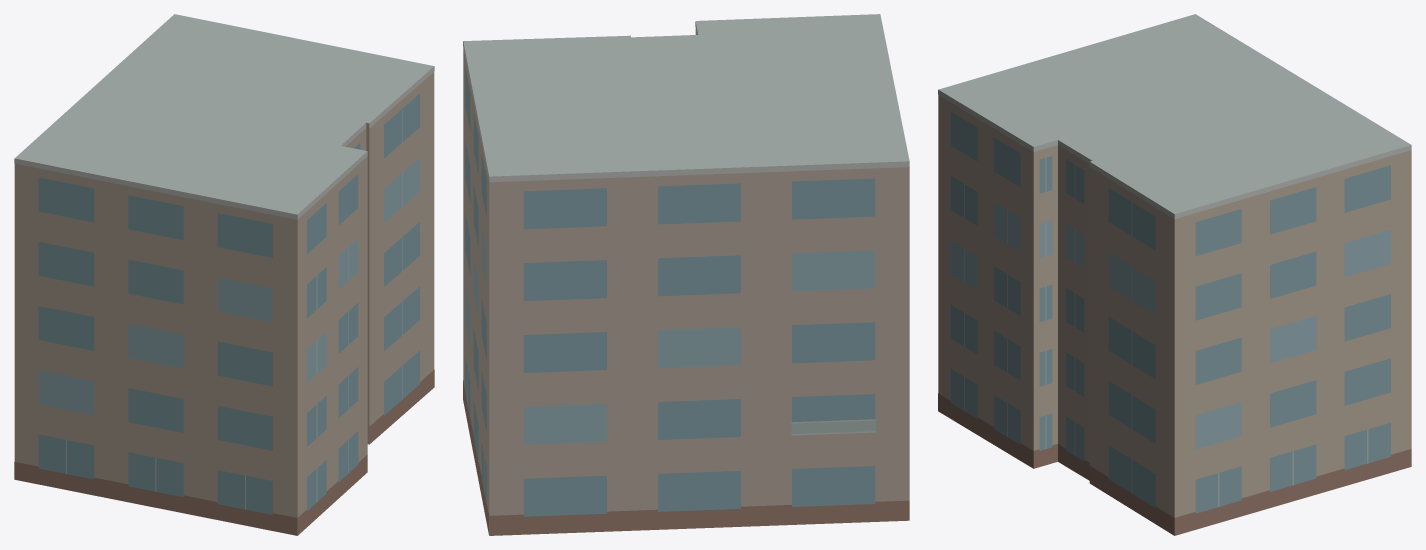
The model's file is survey-upis-32600443.glb.
3 renders of one model, left to right at view 1: azimuth 30°, elevation 25°; view 2: azimuth 150°, elevation 25°; view 3: azimuth 270°, elevation 25°, orthographic. The views are drawn at different scales.
Visible parts, largest first — view 1: survey-upis-32600443.tmp; view 2: survey-upis-32600443.tmp; view 3: survey-upis-32600443.tmp.
Boxes of the visible parts, x1,y1,x2,y2 form: survey-upis-32600443.tmp: [14, 14, 434, 535]; survey-upis-32600443.tmp: [463, 14, 909, 535]; survey-upis-32600443.tmp: [938, 14, 1411, 535].
Size of the model in its own units: 20.42 by 15.3 by 20.41.
